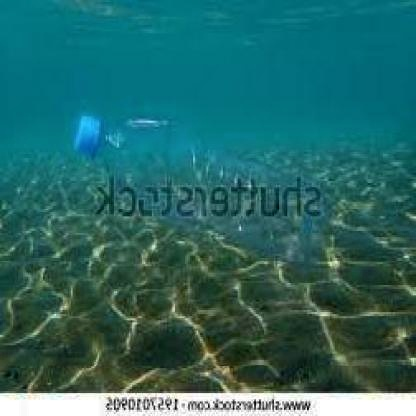pbottle: (68, 104, 330, 275)
